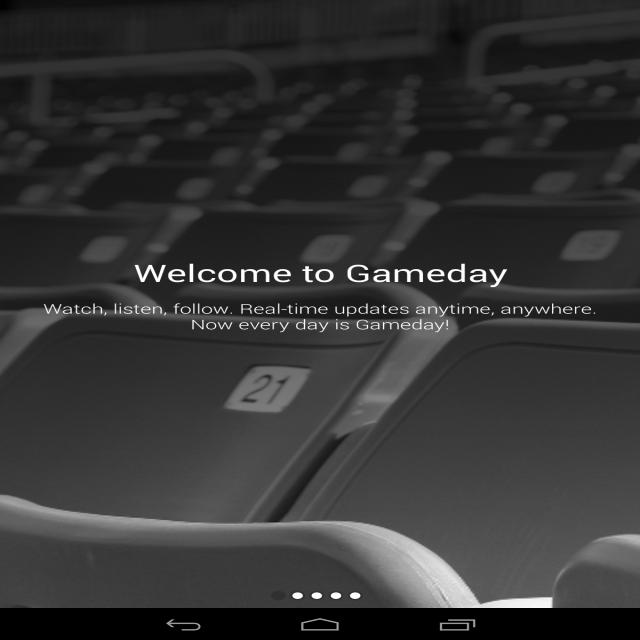TextView: (37, 302, 598, 332), (133, 263, 512, 287)
